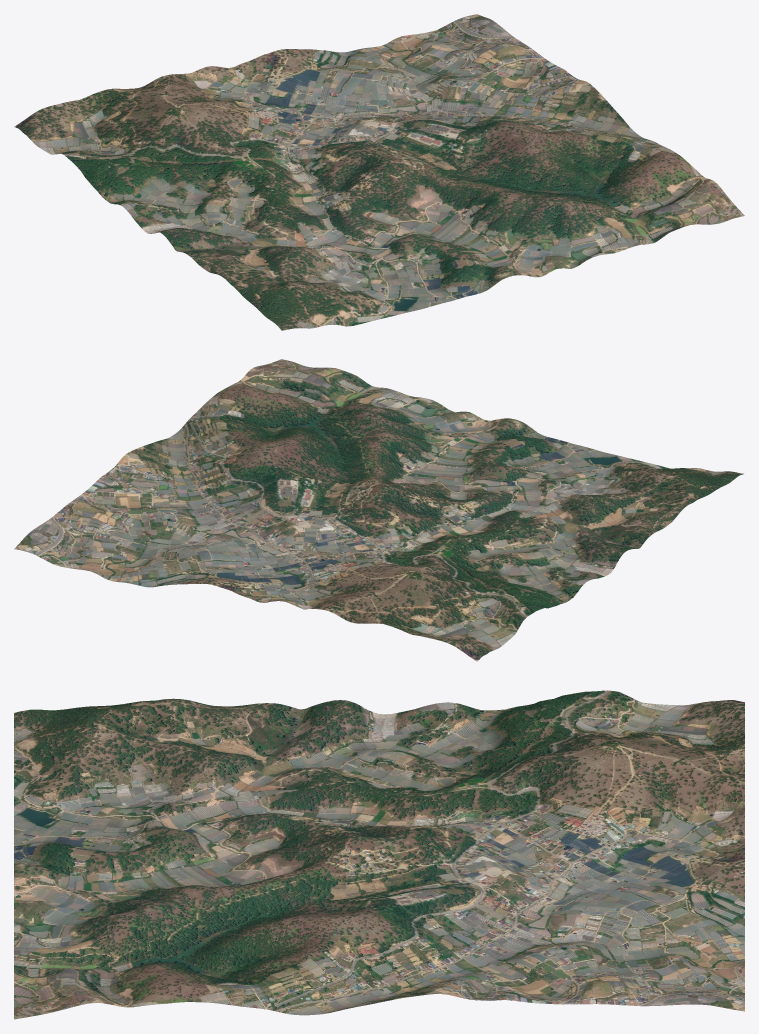
The model's file is terrain_real_T_W02_N02.glb.
The picture shows the model from 3 angles, top to bottom: view 1: azimuth 30°, elevation 25°; view 2: azimuth 150°, elevation 25°; view 3: azimuth 270°, elevation 25°; orthographic projection. The views are drawn at different scales.
Visible parts, largest first — view 1: TerrainReal_T_W02_N02; view 2: TerrainReal_T_W02_N02; view 3: TerrainReal_T_W02_N02.
Boxes of the visible parts, x1,y1,x2,y2 form: TerrainReal_T_W02_N02: (14, 14, 744, 330); TerrainReal_T_W02_N02: (14, 359, 743, 661); TerrainReal_T_W02_N02: (14, 690, 744, 1019).
Size of the model in its own units: 2000 by 192 by 2000.
1 material, 1 textured.
